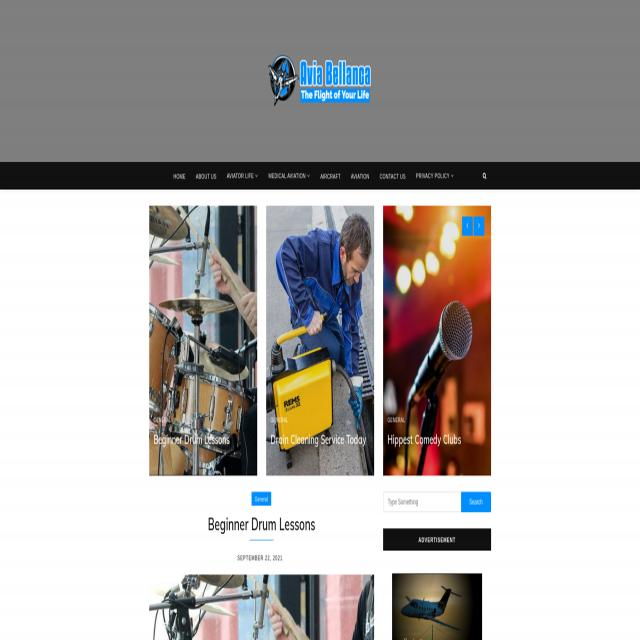button: (382, 204, 491, 476), (266, 205, 374, 476), (149, 206, 257, 474), (146, 574, 375, 640), (260, 54, 380, 108), (391, 572, 482, 640), (384, 528, 492, 552), (264, 162, 314, 190), (412, 162, 458, 190), (222, 162, 262, 190), (376, 162, 410, 189), (191, 162, 221, 189), (316, 162, 345, 189), (346, 162, 374, 189), (461, 492, 491, 513), (169, 162, 190, 189), (478, 162, 491, 189), (462, 216, 472, 236), (474, 216, 484, 236)
field: (383, 492, 461, 513)
